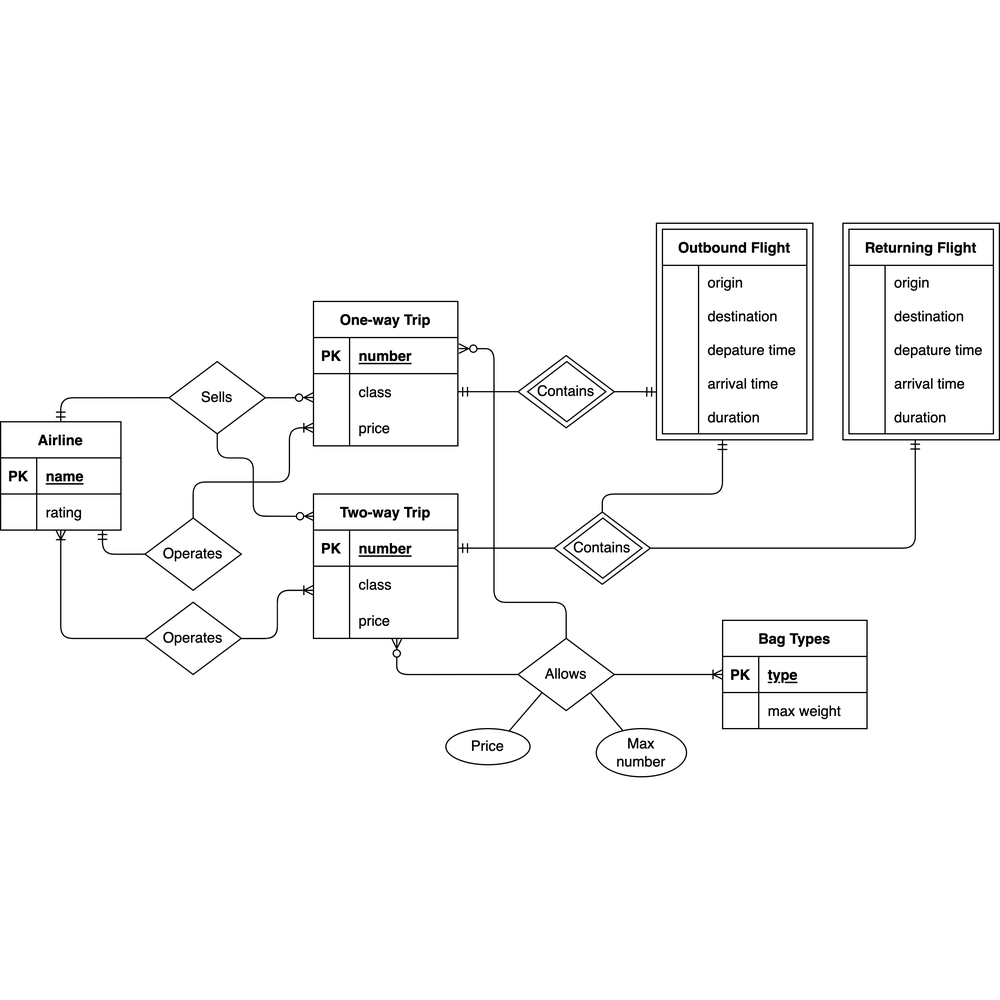attribute: (592, 728, 695, 780), (447, 727, 537, 762)
entity: (838, 218, 1000, 441), (652, 225, 814, 441), (299, 294, 462, 449), (308, 490, 463, 642), (720, 614, 879, 739), (1, 415, 125, 534)
relationship: (513, 355, 621, 430), (508, 639, 620, 711), (556, 510, 652, 587), (145, 602, 241, 675), (171, 364, 268, 433), (143, 521, 241, 586)
